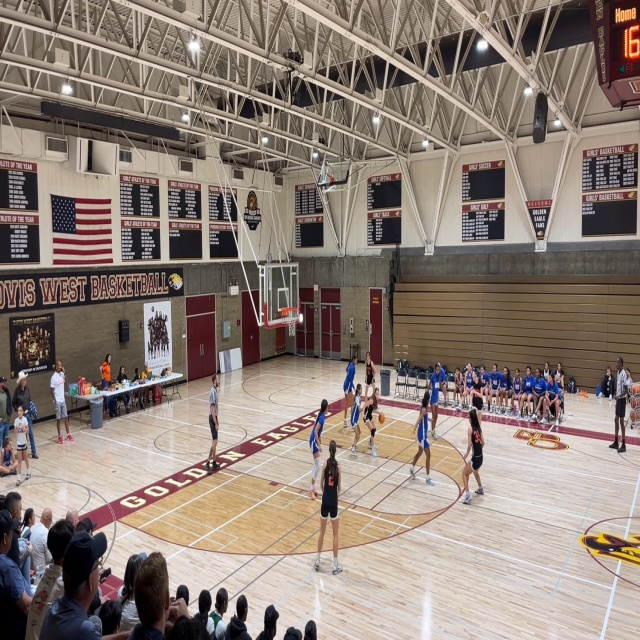Basketball: (377, 413, 385, 423)
